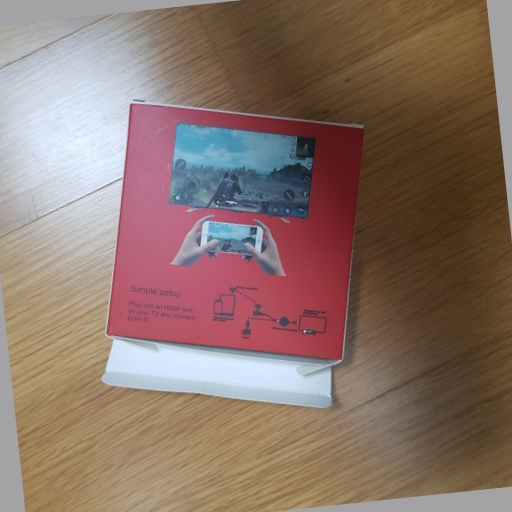Paper_0: (95, 87, 370, 420)
